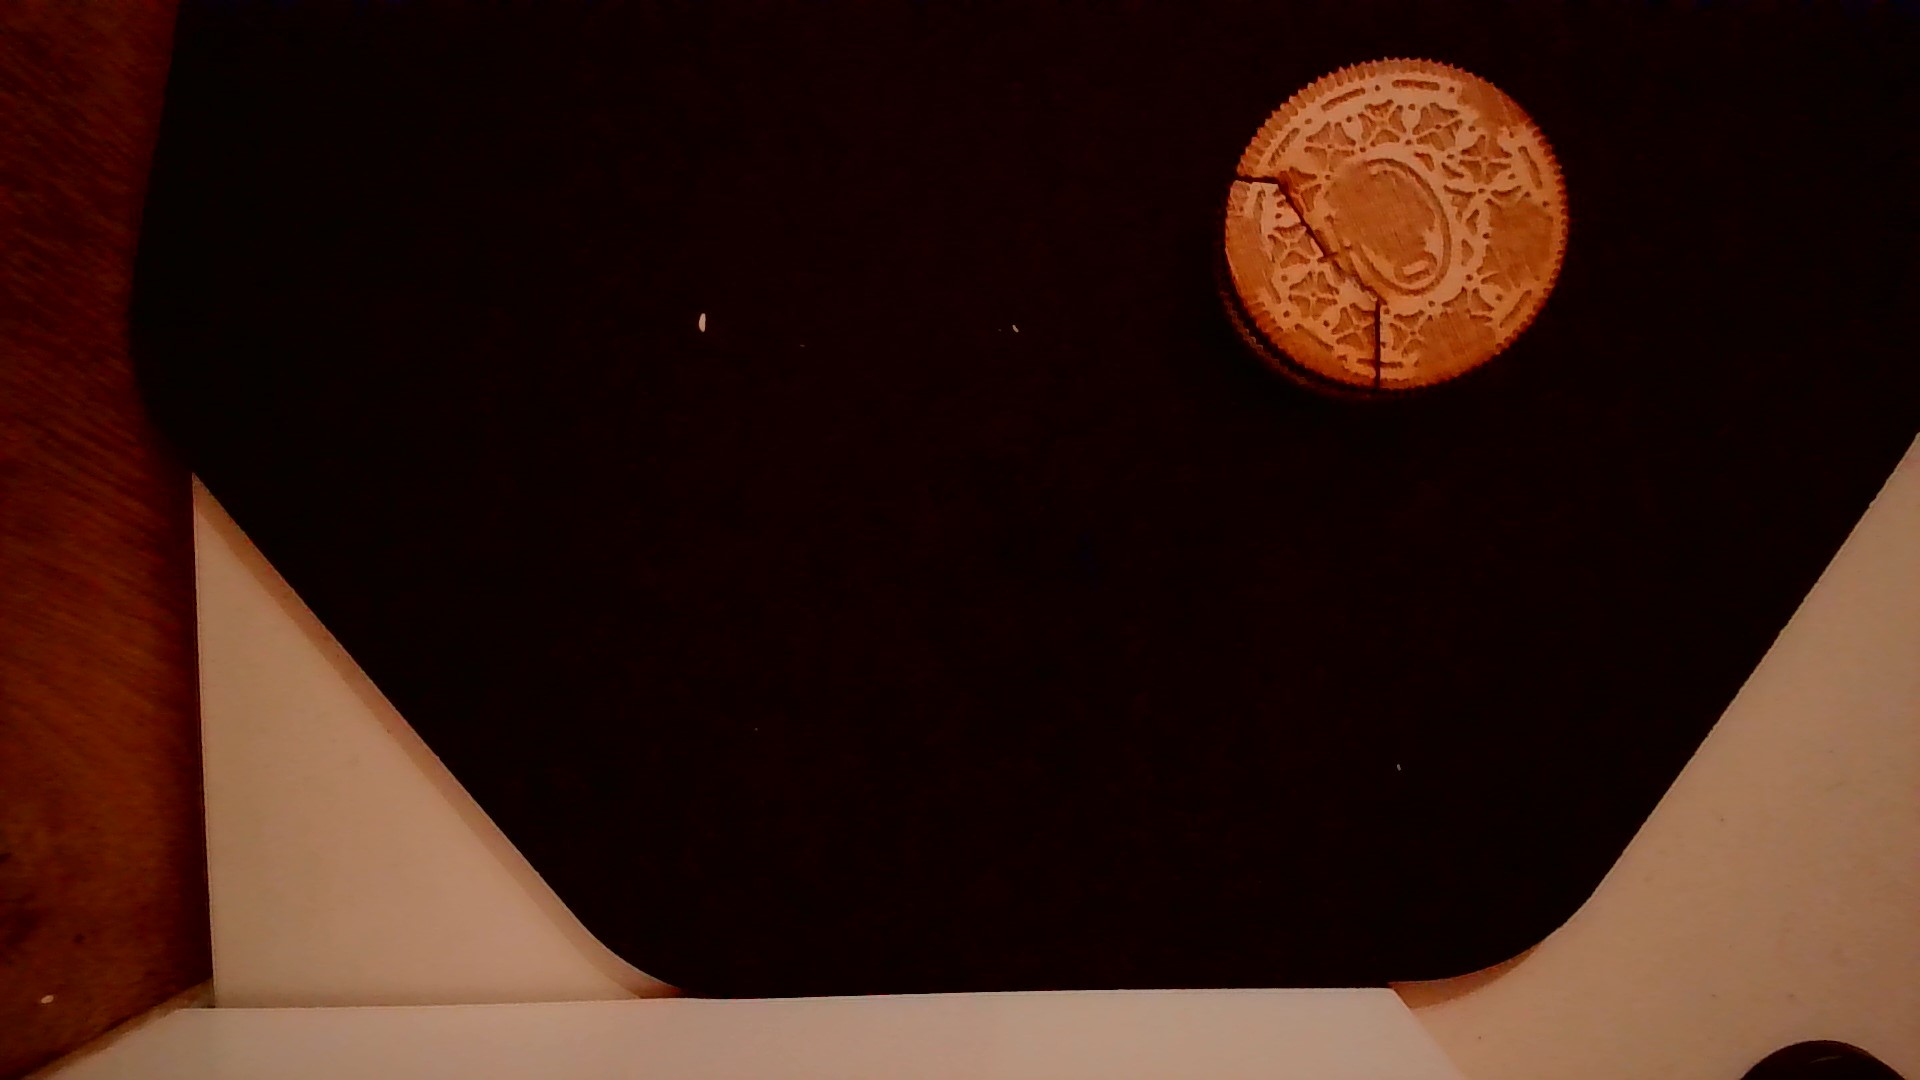Effacé: (1320, 153, 1437, 258), (1414, 307, 1498, 382), (1487, 196, 1552, 290), (1458, 69, 1523, 141), (1226, 210, 1276, 295)
Fissure: (1232, 167, 1393, 400)
Oréo: (1215, 49, 1578, 401)
